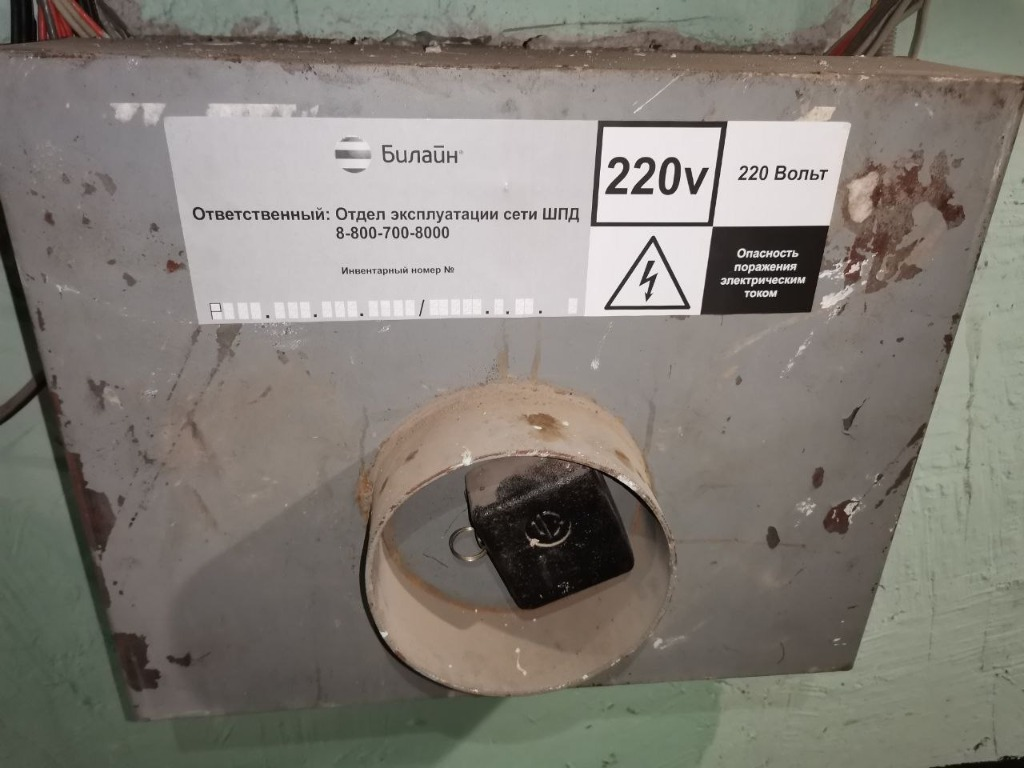shta-3: (3, 35, 1022, 722)
